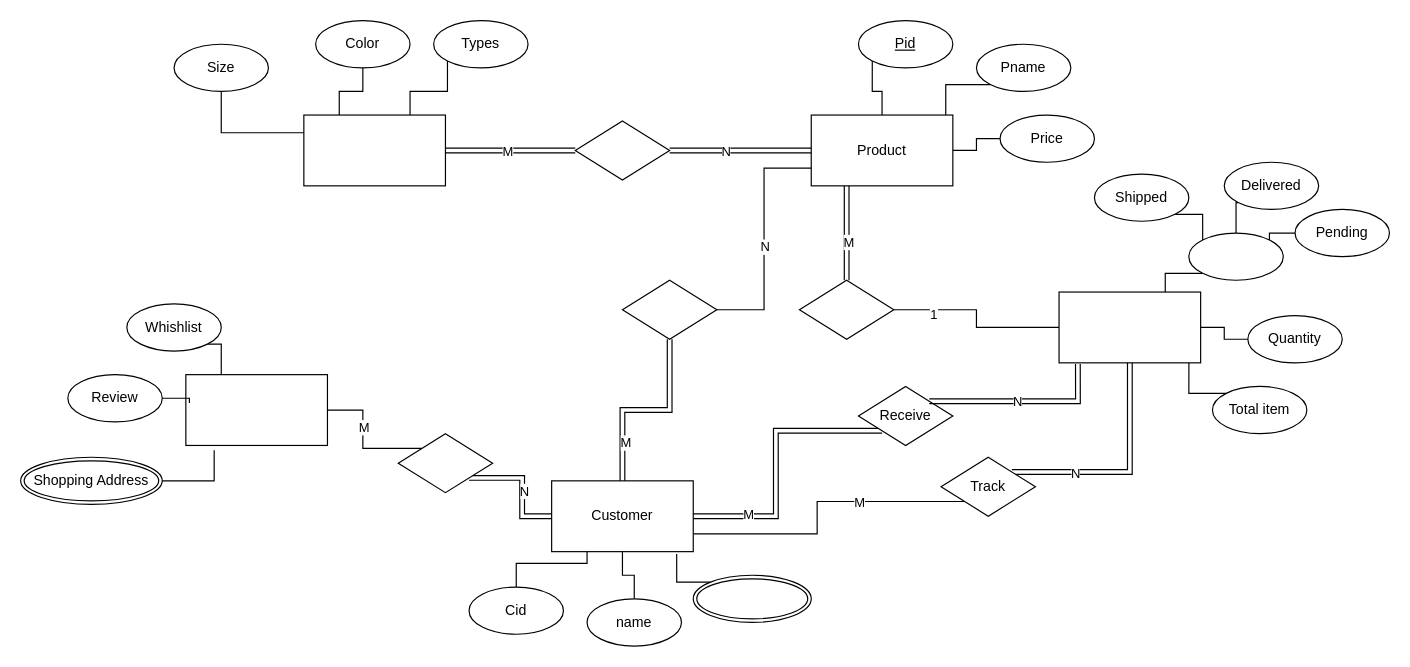
Some shapes in this 1410 by 667 pixel diagram are drawn without their labels. Each missing label, with the centre of its shape:
"Account" goes at [256,409].
"Assign" goes at [445,462].
"Belong" goes at [622,150].
"Category" goes at [374,150].
"Choose" goes at [669,309].
"Email" goes at [751,598].
"Order" goes at [1129,327].
"Select" goes at [846,309].
"Status" goes at [1235,256].
